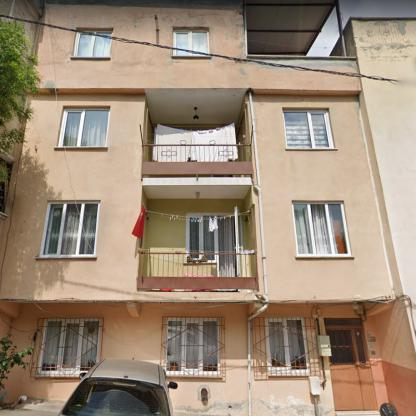door: (325, 317, 377, 410), (235, 208, 244, 277)
window: (38, 320, 101, 378), (40, 202, 100, 257), (292, 202, 351, 256), (165, 318, 218, 375), (265, 317, 308, 374), (58, 108, 109, 147), (284, 110, 333, 148), (186, 214, 218, 262), (73, 32, 111, 56), (173, 29, 209, 53), (173, 50, 208, 57), (82, 31, 112, 35)
